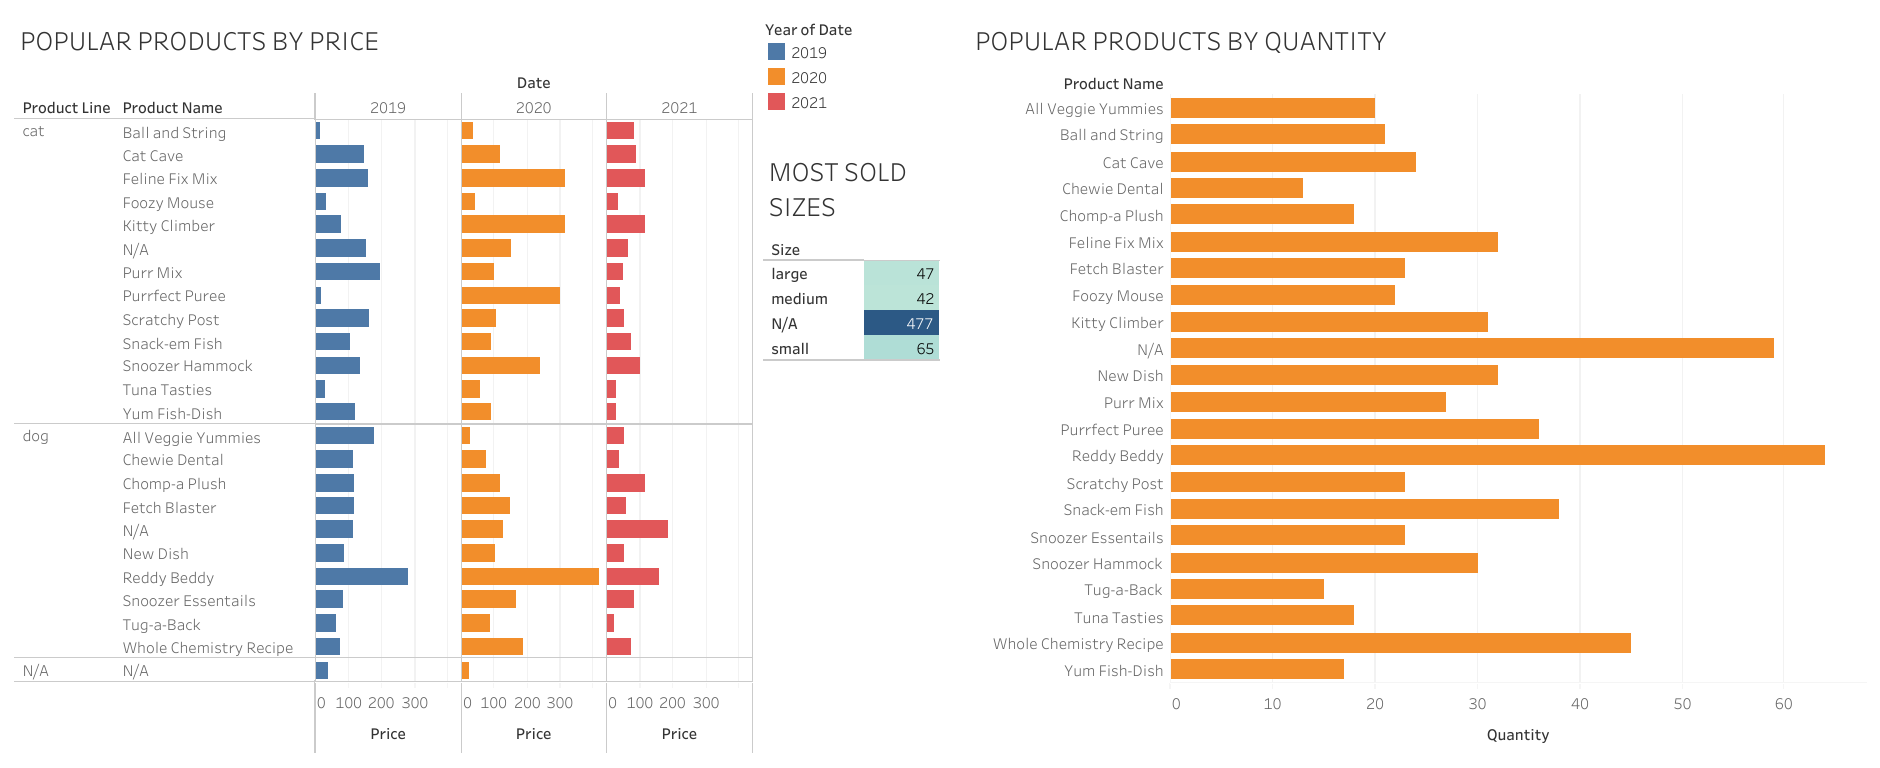

What the dashboard file says about the page in this screenshot:
{"tool":"tableau","page":{"name":"Dashboard 1","canvas":[1000,1000],"units":"permille","ordinal":0},"visuals":[{"type":"worksheet","title":"POPULAR PRODUCTS BY PRICE","mark":"Bar","rows":["Product_Line","Product_Name"],"cols":["Date","Price"],"box":[4.9,10,407.9,980]},{"type":"legend","title":"POPULAR PRODUCTS BY PRICE","param":"[federated.1bgy9fg1m5b81o16kx0ud0whqndn].[yr:Date:ok]","box":[412.8,10,100.3,131.1]},{"type":"worksheet","title":"POPULAR PRODUCTS BY QUANTITY","mark":"Automatic","rows":["Product_Name"],"cols":["Quantity"],"box":[513.1,10,482.1,980]},{"type":"worksheet","title":"MOST SOLD SIZES","mark":"Square","rows":["Size"],"box":[412.8,141.1,100.3,322.1]}]}

Visuals, with their boxes on the dashboard's canvas, which has no fixed pixel size, in thousandths of its width and height (x1, y1, x2, y2). These are canvas units, not pixel positions in the 1880x768 screenshot, which may show the page scaled, cropped or inside an application window:
"POPULAR PRODUCTS BY PRICE" worksheet (Bar marks): x1=5 y1=10 x2=413 y2=990
"POPULAR PRODUCTS BY PRICE" legend: x1=413 y1=10 x2=513 y2=141
"POPULAR PRODUCTS BY QUANTITY" worksheet: x1=513 y1=10 x2=995 y2=990
"MOST SOLD SIZES" worksheet (Square marks): x1=413 y1=141 x2=513 y2=463
